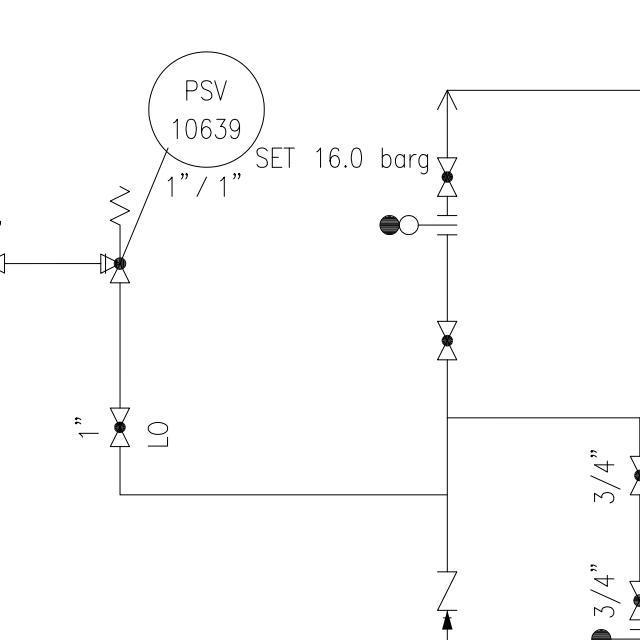BV2: (95, 178, 143, 289), (432, 150, 462, 203), (105, 401, 134, 452), (432, 317, 460, 365)
